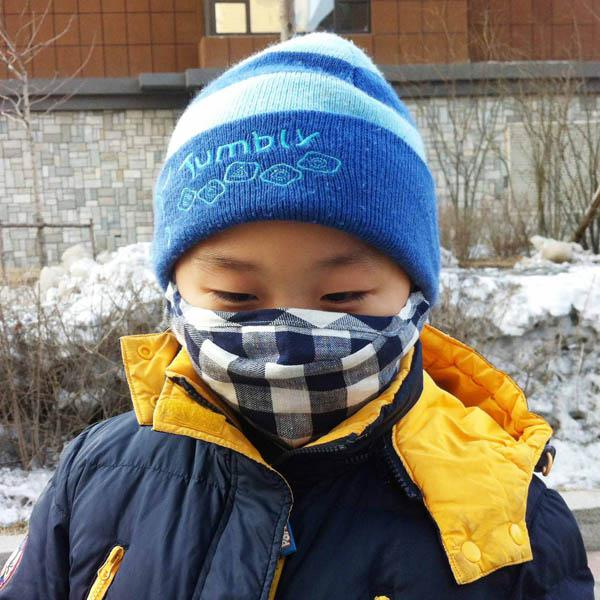OK: (178, 236, 408, 449)
